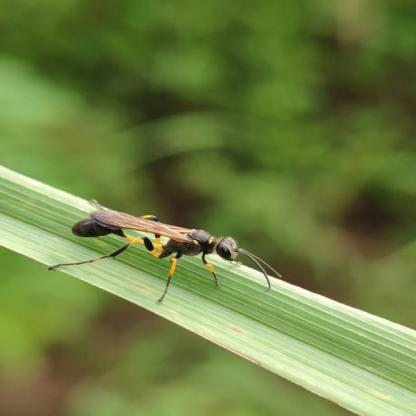sawfly: (47, 196, 282, 314)
